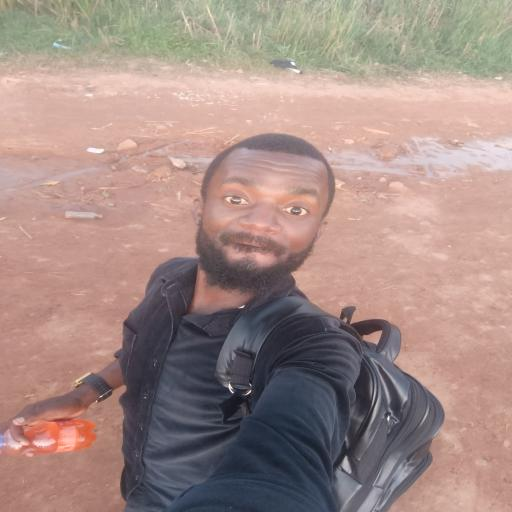MATTHIEU: (209, 124, 343, 310)
